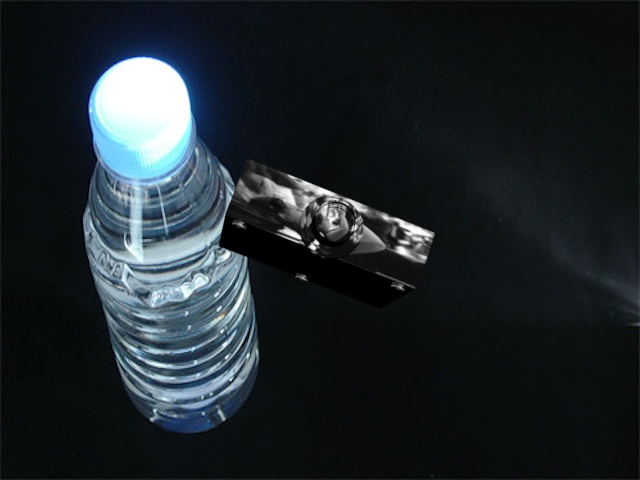projector: (217, 153, 440, 312)
